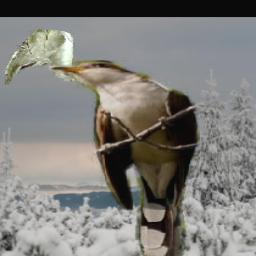Cuckoo: (49, 60, 200, 256), (6, 27, 88, 86)
